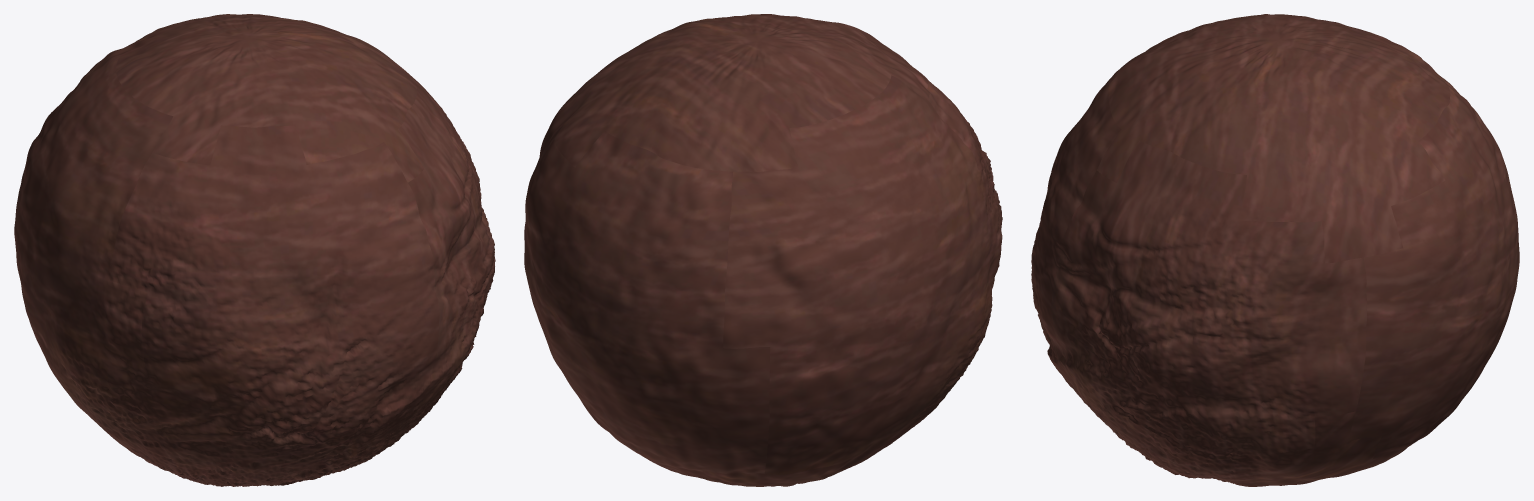
File: chocolate_ice_cream.glb
The picture shows the model from 3 angles, left to right: view 1: azimuth 30°, elevation 25°; view 2: azimuth 150°, elevation 25°; view 3: azimuth 270°, elevation 25°; orthographic projection.
Visible parts, largest first — view 1: Sphere; view 2: Sphere; view 3: Sphere.
Part boxes in pixels (box(x1,y1,x2,y2)): Sphere: box(14, 14, 495, 486); Sphere: box(524, 14, 1002, 486); Sphere: box(1031, 14, 1519, 486).
Bounding box in the file's own units: 0.3794 × 0.3763 × 0.3934.
1 material, 1 textured.
